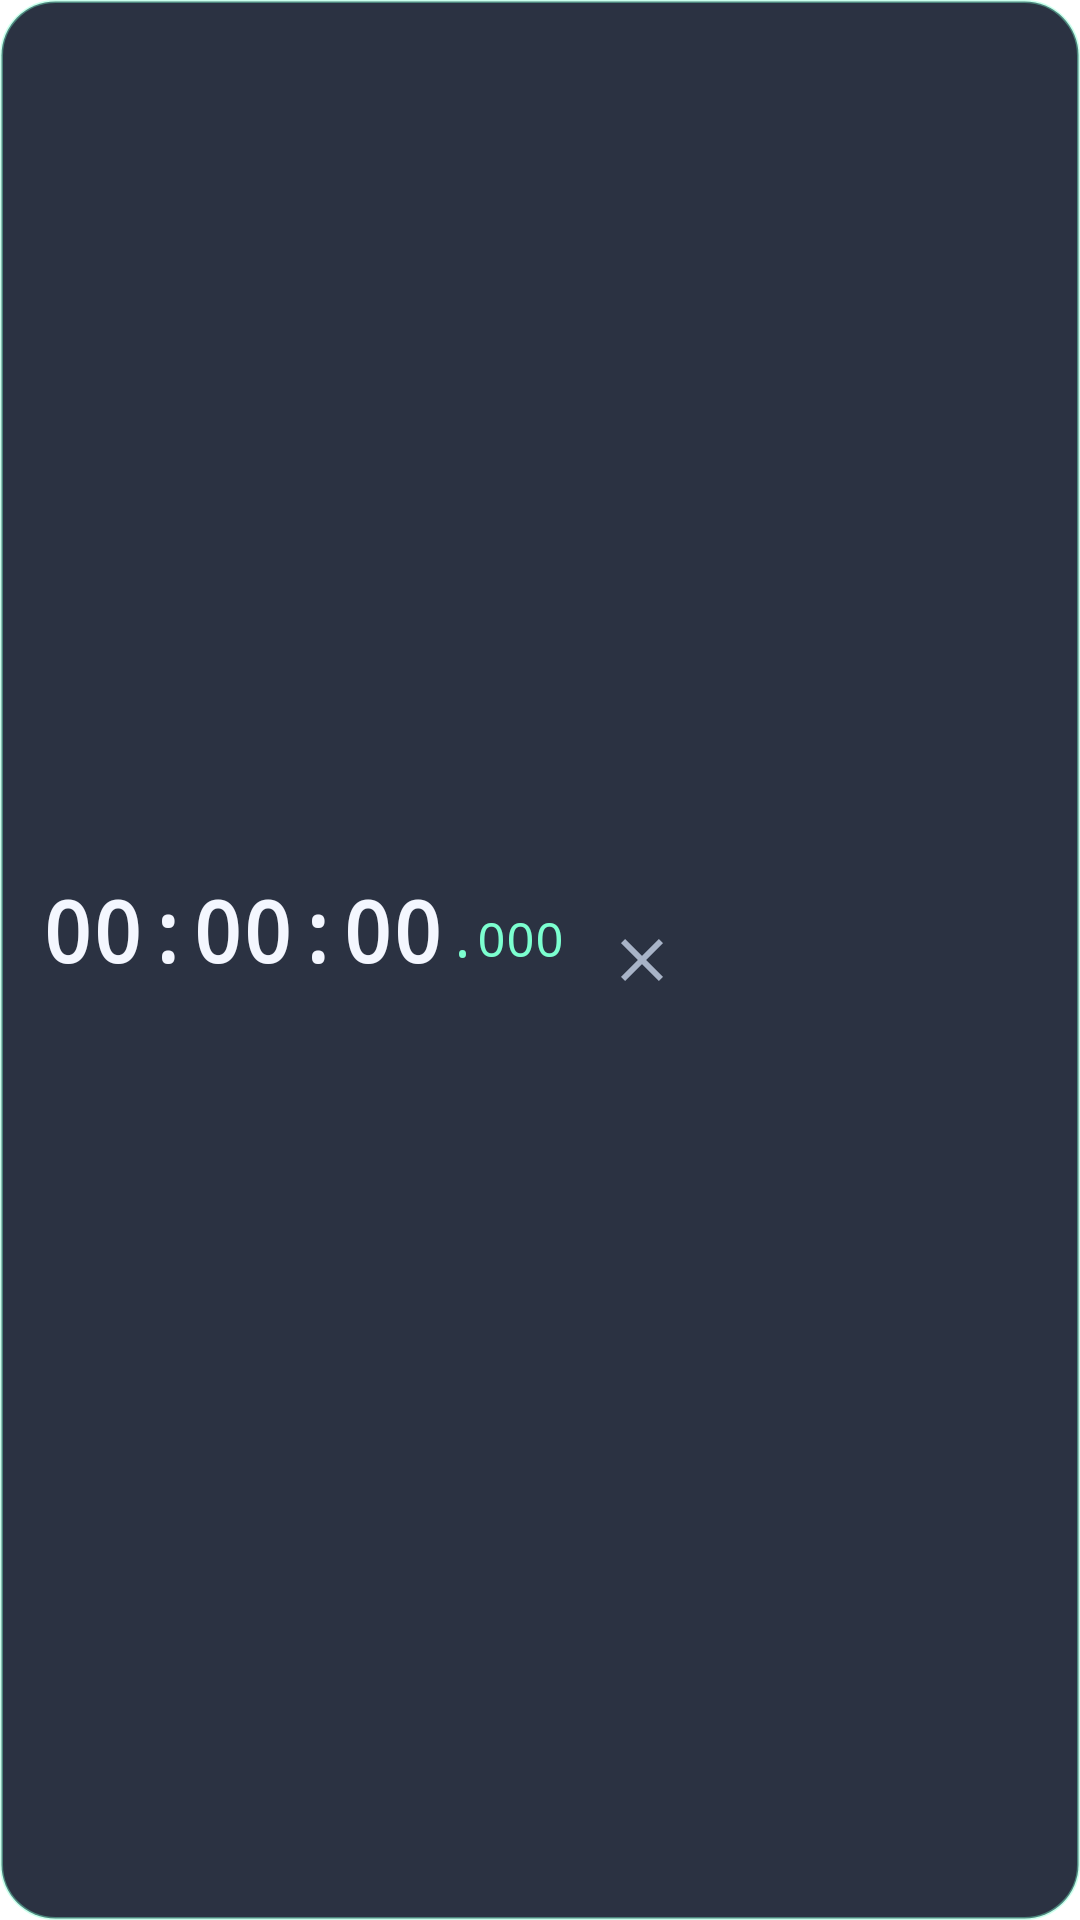

Icons on this 1080px x 1920px Android screen, each with its box as (x1, y1, x2, y2):
닫기: (621, 939, 663, 981)
